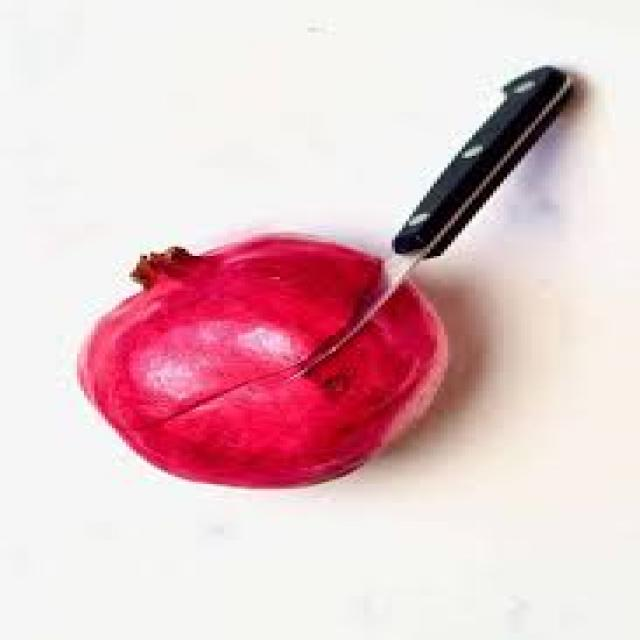pomegranate: (42, 228, 465, 500)
